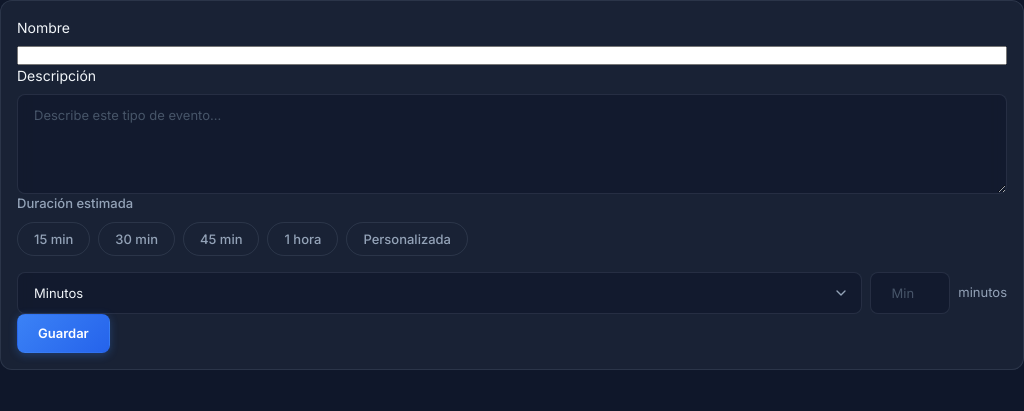
Scenario: US_003, US_004, US_006: Creación de Tipos de Eventos › 3. Frena la carga y muestra error al detectar un nombre duplicado
This screenshot has width=1024, height=411.
Type "Terapia Física" into the field labelled "Nombre" at coordinates (512, 56), box [17,46,1007,65]
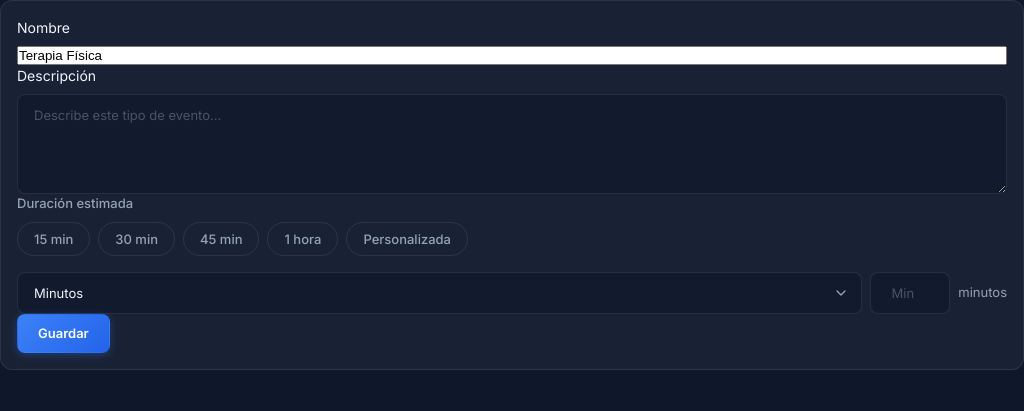
Click the button "Guardar" at coordinates (63, 333), box [17,314,110,352]
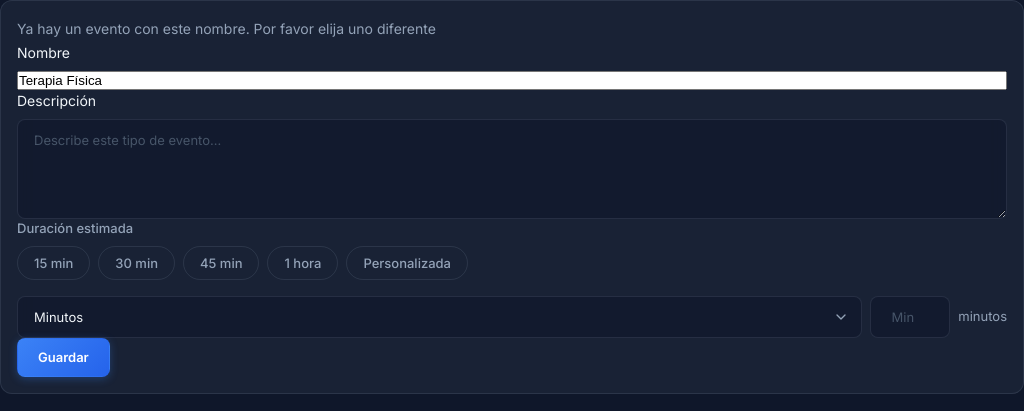
Expected: the text "Ya hay un evento con este nombre. Por favor elija uno diferente" is shown, [17,20,436,37]
